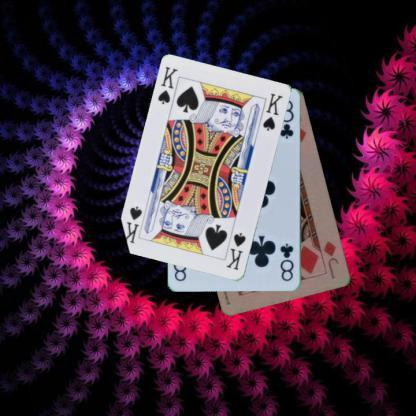8c: (278, 240, 296, 283)
Jd: (322, 238, 340, 281)
Ks: (156, 64, 180, 106), (224, 230, 247, 272)
